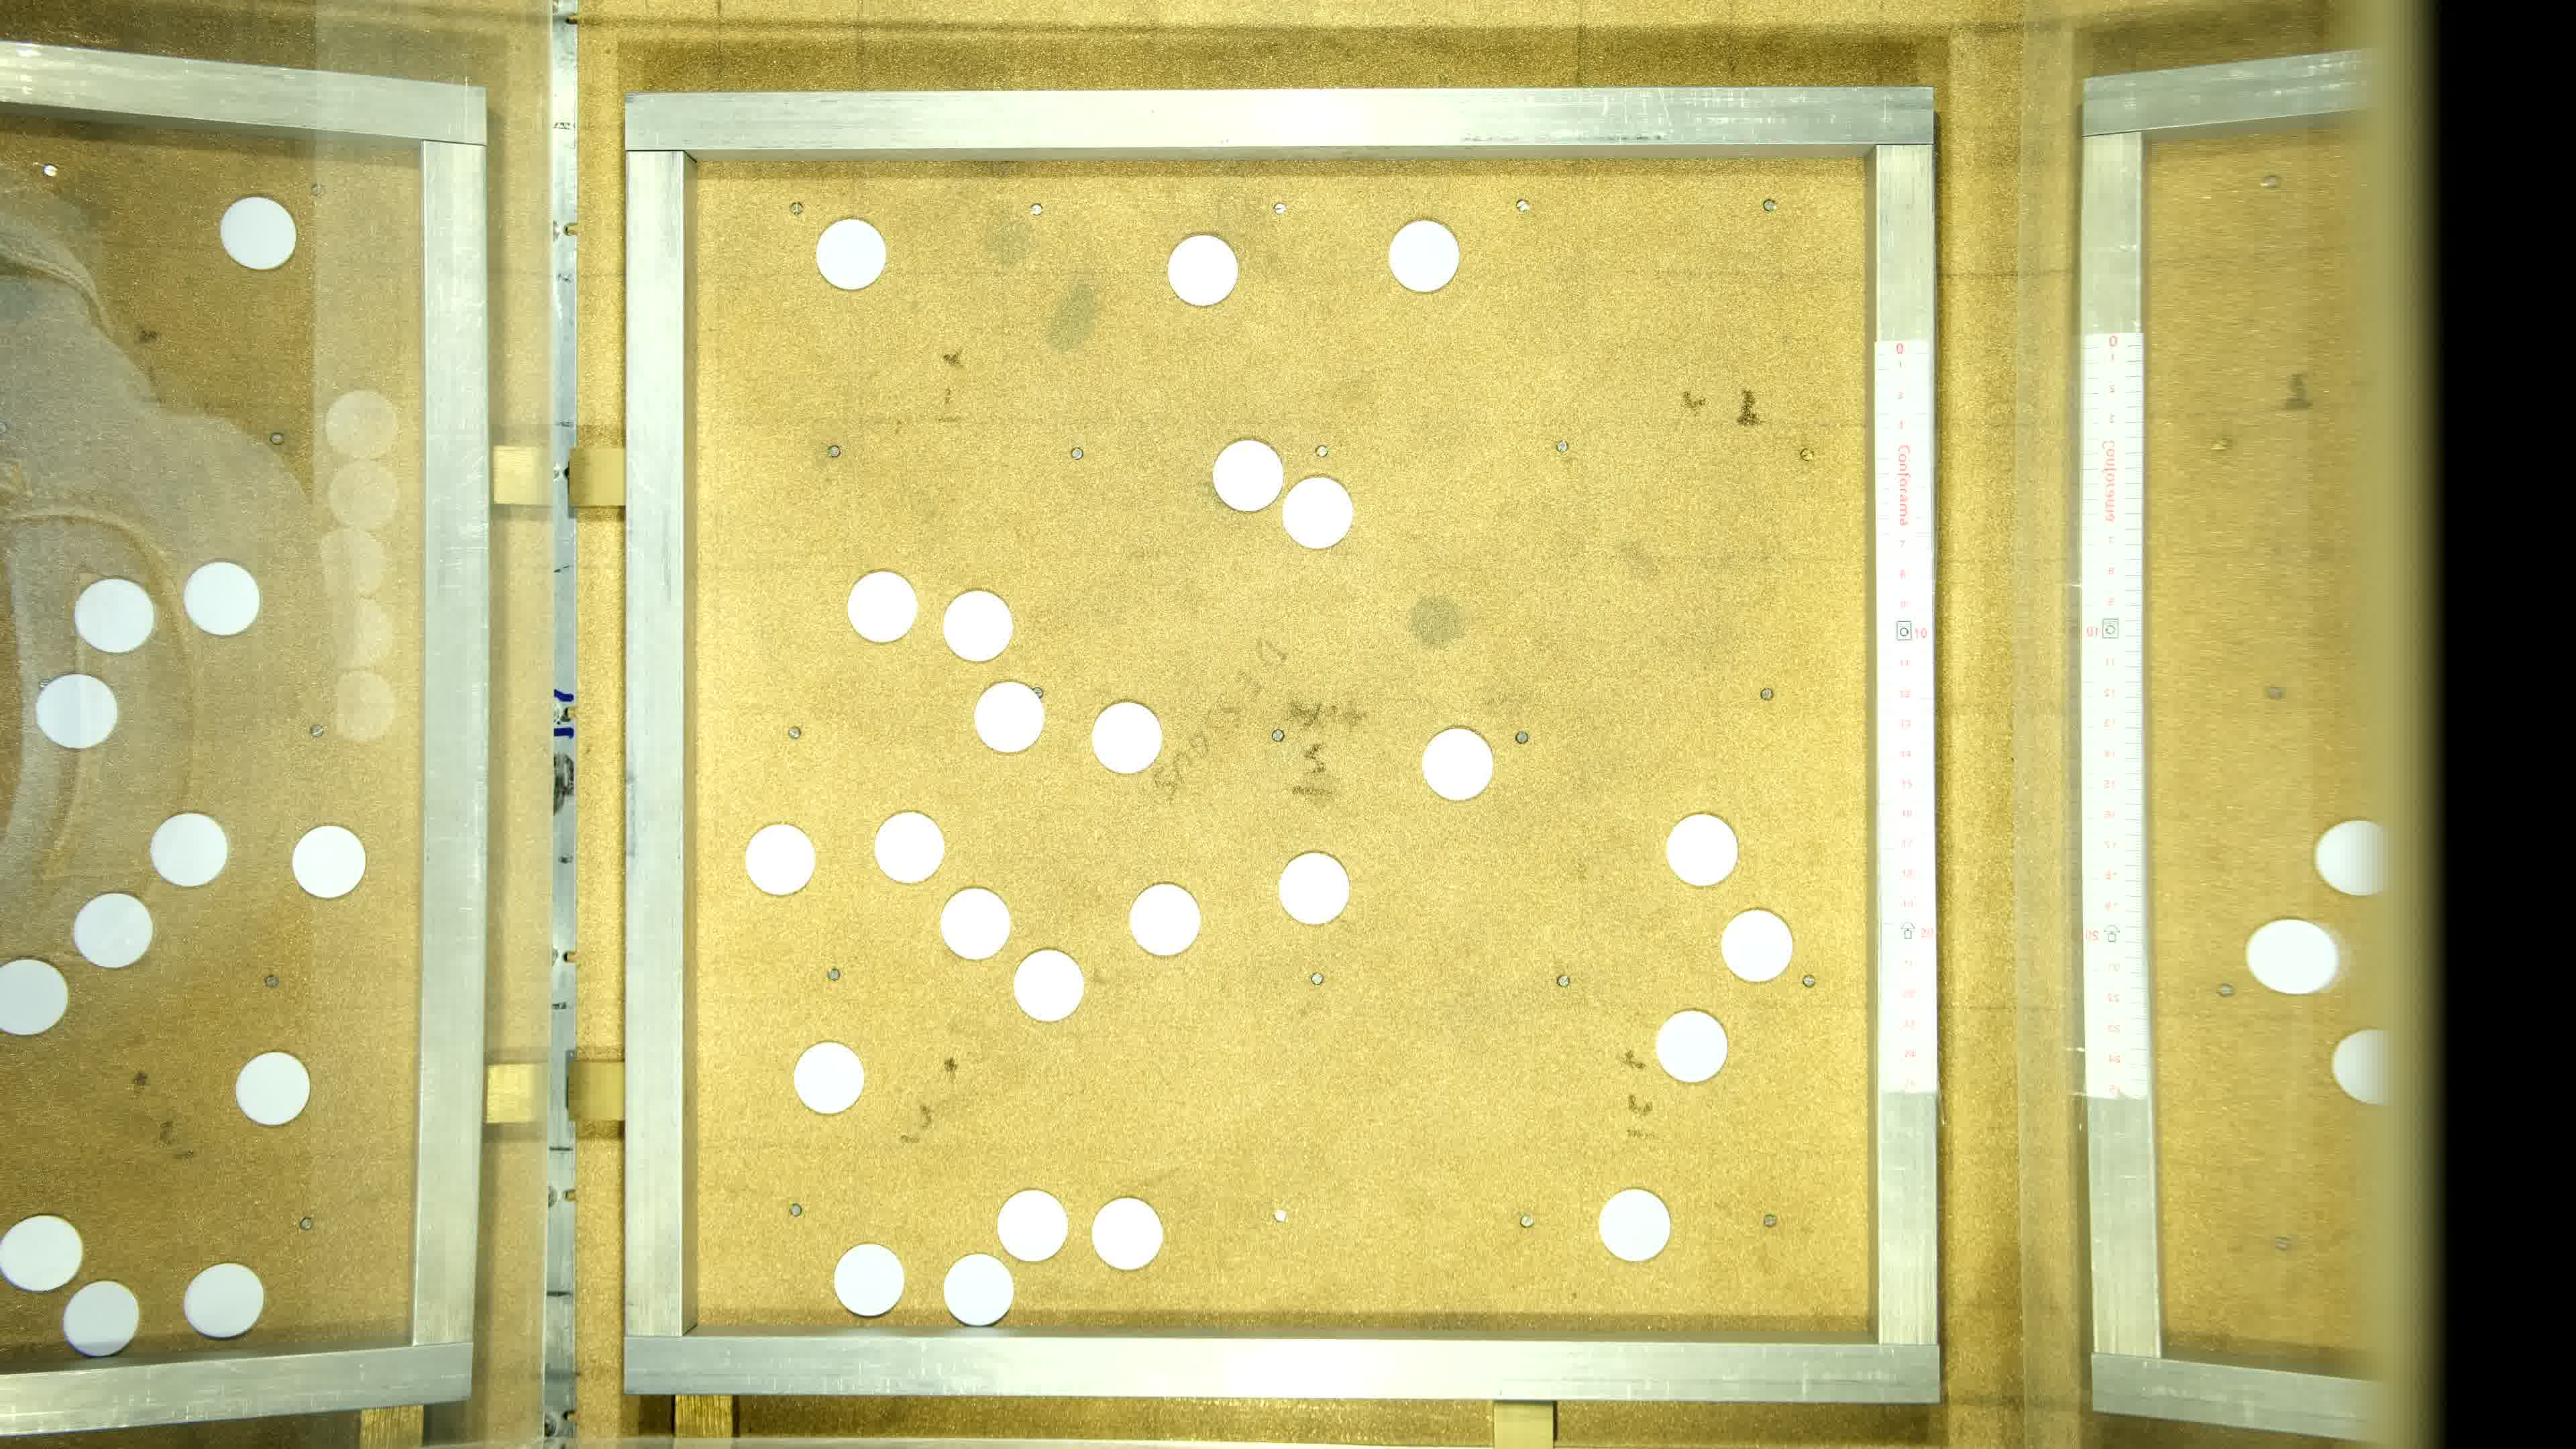pallet: (1716, 906, 1799, 985), (936, 888, 1014, 961), (1419, 727, 1497, 800), (844, 570, 922, 642), (1279, 478, 1357, 550), (791, 1040, 867, 1113), (1090, 1200, 1166, 1272), (1131, 883, 1207, 955), (747, 823, 823, 895), (968, 681, 1044, 754), (1164, 234, 1240, 306), (810, 219, 888, 290), (830, 1244, 908, 1315), (870, 814, 948, 885), (1599, 1187, 1677, 1258), (1651, 1010, 1729, 1081), (1665, 814, 1743, 885), (1086, 704, 1164, 775), (939, 589, 1017, 660), (1385, 221, 1463, 292), (941, 1256, 1017, 1327), (998, 1191, 1074, 1261), (1008, 948, 1085, 1019), (1277, 855, 1353, 925), (1210, 442, 1286, 513)
